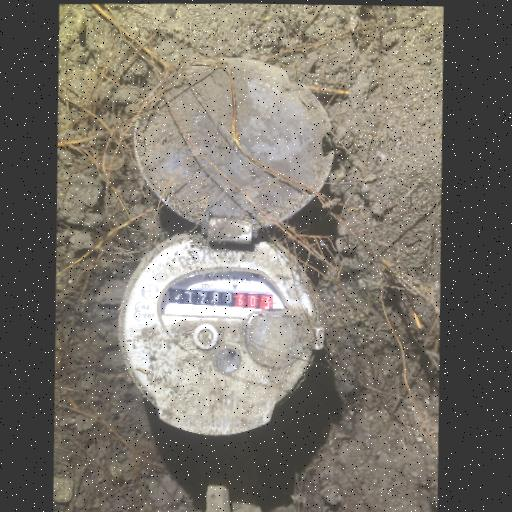0: (222, 291, 233, 307), (247, 293, 258, 308), (172, 289, 182, 303)
1: (183, 289, 195, 305)
2: (197, 291, 208, 306)
3: (260, 293, 273, 310)
6: (234, 292, 245, 307)
8: (209, 290, 220, 305)
border_water_meter_number: (169, 279, 276, 315)
